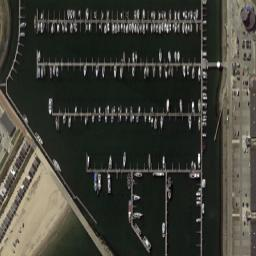boat: (52, 156, 62, 172), (34, 130, 43, 144), (133, 221, 141, 234), (142, 234, 150, 247), (167, 175, 171, 198), (94, 170, 98, 190), (188, 171, 200, 177), (196, 152, 200, 168), (97, 172, 101, 188), (128, 198, 131, 219), (107, 172, 110, 192), (22, 113, 28, 123), (178, 98, 182, 112), (54, 115, 58, 129), (127, 170, 130, 188), (151, 171, 164, 175), (48, 97, 51, 114), (133, 211, 143, 216), (197, 64, 200, 80), (49, 64, 52, 79), (133, 171, 142, 176), (166, 97, 169, 112), (66, 7, 70, 18), (133, 194, 141, 199), (34, 12, 36, 32), (113, 64, 116, 77), (158, 48, 161, 61), (160, 115, 163, 128), (188, 115, 191, 128), (191, 99, 194, 112), (182, 64, 185, 77), (191, 64, 194, 77), (40, 64, 43, 77), (83, 64, 86, 76), (95, 64, 98, 76), (101, 65, 104, 77), (143, 65, 146, 77), (152, 64, 155, 76), (142, 21, 145, 33), (125, 21, 128, 33), (37, 64, 40, 76), (68, 115, 71, 127), (167, 50, 170, 61), (173, 50, 176, 61), (195, 7, 198, 18), (174, 21, 177, 32), (158, 21, 161, 32), (142, 7, 145, 18), (136, 22, 139, 33), (37, 50, 40, 61), (123, 150, 125, 166), (148, 152, 150, 168), (134, 51, 137, 61), (150, 116, 153, 126), (162, 221, 164, 236), (72, 8, 75, 18), (61, 22, 64, 32), (84, 114, 87, 124), (109, 153, 111, 167), (120, 64, 122, 78), (198, 98, 200, 112), (198, 115, 200, 129), (45, 21, 48, 30), (62, 114, 65, 123), (159, 64, 161, 77), (154, 115, 156, 128), (162, 154, 164, 167), (123, 50, 125, 62), (165, 65, 167, 77), (194, 191, 200, 195), (195, 199, 201, 203), (185, 21, 187, 33), (131, 21, 133, 33), (114, 21, 116, 33), (104, 21, 106, 33), (51, 21, 53, 33), (20, 21, 26, 25), (56, 64, 58, 75), (53, 64, 55, 75), (107, 8, 109, 19), (132, 64, 134, 75), (146, 64, 148, 75), (171, 64, 173, 75), (177, 50, 179, 61), (202, 201, 204, 212), (202, 139, 204, 150), (196, 22, 198, 33), (182, 21, 184, 32), (169, 8, 171, 19), (156, 21, 158, 32), (140, 21, 142, 32), (137, 7, 139, 18), (112, 21, 114, 32), (86, 7, 88, 18), (70, 21, 72, 32), (44, 64, 46, 75), (40, 21, 42, 32), (87, 154, 89, 165), (74, 105, 77, 112), (158, 11, 161, 18), (132, 51, 134, 61), (168, 64, 170, 74), (186, 64, 188, 74), (204, 139, 206, 149), (166, 22, 168, 32), (160, 21, 162, 31), (160, 8, 162, 18), (153, 21, 155, 31), (150, 22, 152, 32), (134, 8, 136, 18), (129, 21, 131, 31), (123, 21, 125, 31), (107, 21, 109, 31), (88, 21, 90, 31), (70, 8, 72, 18), (64, 21, 66, 31), (107, 103, 109, 112), (190, 159, 192, 168), (193, 160, 195, 169), (202, 177, 204, 186), (190, 9, 192, 18), (190, 22, 192, 31), (177, 10, 179, 19), (177, 21, 179, 30), (174, 9, 176, 18), (169, 21, 171, 30), (164, 21, 166, 30), (153, 9, 155, 18), (150, 9, 152, 18), (134, 22, 136, 31), (126, 9, 128, 18), (120, 21, 122, 30), (117, 22, 119, 31), (94, 9, 96, 18), (57, 22, 59, 31), (37, 21, 39, 30), (40, 10, 42, 19), (112, 104, 114, 112), (110, 114, 112, 122), (120, 104, 122, 112), (196, 195, 200, 199), (202, 120, 206, 124), (202, 102, 206, 106), (202, 84, 206, 88), (202, 70, 206, 74), (192, 10, 194, 18), (188, 9, 190, 17), (187, 22, 189, 30), (145, 22, 147, 30), (120, 10, 122, 18), (101, 10, 103, 18), (98, 22, 100, 30), (75, 22, 77, 30), (20, 30, 24, 34), (98, 113, 100, 121), (202, 114, 207, 117), (202, 96, 207, 99), (202, 74, 207, 77), (98, 105, 100, 112), (117, 114, 119, 121), (117, 105, 119, 112), (130, 105, 132, 112), (126, 106, 128, 113), (132, 114, 134, 121), (138, 105, 140, 112), (148, 114, 150, 121), (182, 10, 184, 17), (172, 22, 174, 29), (43, 22, 45, 29), (104, 114, 106, 121), (92, 114, 94, 121), (111, 106, 113, 112), (136, 115, 138, 121), (196, 217, 200, 220), (202, 133, 206, 136), (202, 117, 206, 120), (202, 36, 206, 39), (202, 19, 206, 22), (202, 0, 206, 3), (78, 9, 80, 15), (126, 115, 128, 120), (128, 56, 130, 61), (164, 9, 165, 18), (202, 110, 206, 112), (204, 104, 206, 108), (202, 92, 206, 94), (199, 22, 200, 30), (185, 9, 186, 17), (105, 105, 106, 112), (130, 114, 131, 121), (145, 114, 146, 121), (151, 105, 152, 112), (86, 22, 87, 29), (94, 106, 95, 112), (128, 219, 131, 221), (132, 178, 134, 181), (119, 114, 120, 120), (202, 57, 205, 59), (185, 15, 187, 18), (73, 21, 74, 27), (138, 215, 140, 217), (120, 58, 122, 60), (164, 17, 166, 19), (41, 64, 43, 66), (61, 20, 62, 23)
